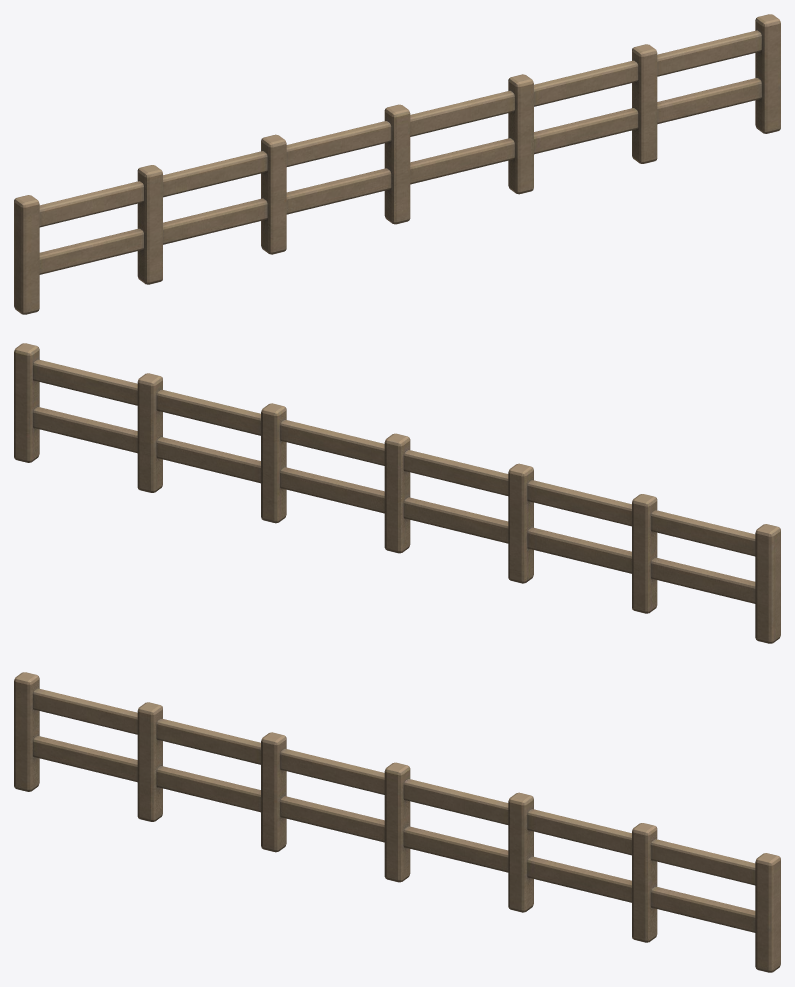
File: p_zaun.glb
3 views of the same model, one above another, from view 1: azimuth 30°, elevation 25°; view 2: azimuth 150°, elevation 25°; view 3: azimuth 330°, elevation 25° (orthographic).
Parts seen in each view (by area): view 1: p_zaun; view 2: p_zaun; view 3: p_zaun.
Part boxes in pixels (x1=…): p_zaun: x1=14, y1=14, x2=780, y2=314; p_zaun: x1=14, y1=343, x2=780, y2=643; p_zaun: x1=14, y1=672, x2=780, y2=972.
Bounding box in the file's own units: 0.922 × 0.13 × 0.0219.
1 material, 1 textured.
